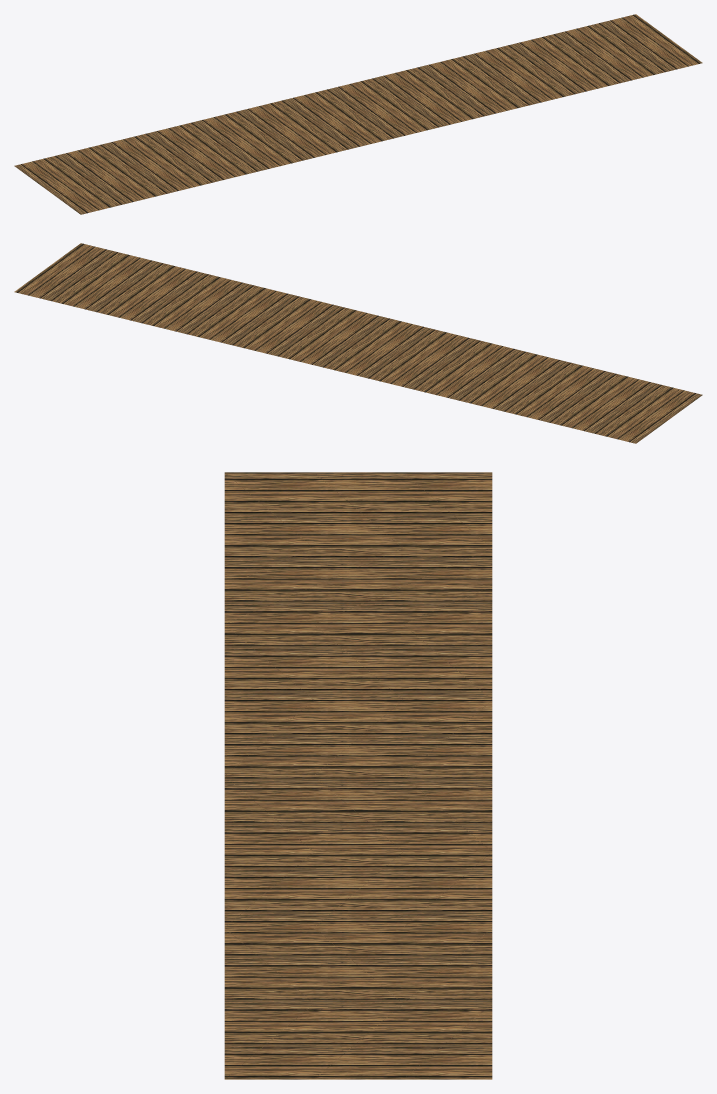
Rendered from LAKETOWN_EXTERIOR_PS_LT_PIER_WOOD02.fbx.
3 views of the same model, one above another, from view 1: azimuth 30°, elevation 25°; view 2: azimuth 150°, elevation 25°; view 3: azimuth 270°, elevation 25° (orthographic). The views are drawn at different scales.
Parts seen in each view (by area): view 1: LAKETOWN_EXTERIOR_PS_LT_PIER_WOOD02; view 2: LAKETOWN_EXTERIOR_PS_LT_PIER_WOOD02; view 3: LAKETOWN_EXTERIOR_PS_LT_PIER_WOOD02.
Part boxes in pixels (<box>): LAKETOWN_EXTERIOR_PS_LT_PIER_WOOD02: <box>14,14,702,214</box>; LAKETOWN_EXTERIOR_PS_LT_PIER_WOOD02: <box>14,243,702,443</box>; LAKETOWN_EXTERIOR_PS_LT_PIER_WOOD02: <box>224,472,492,1079</box>.
Size of the model in its own units: 268041 by 0.0165 by 49936.
1 material, 1 textured.
